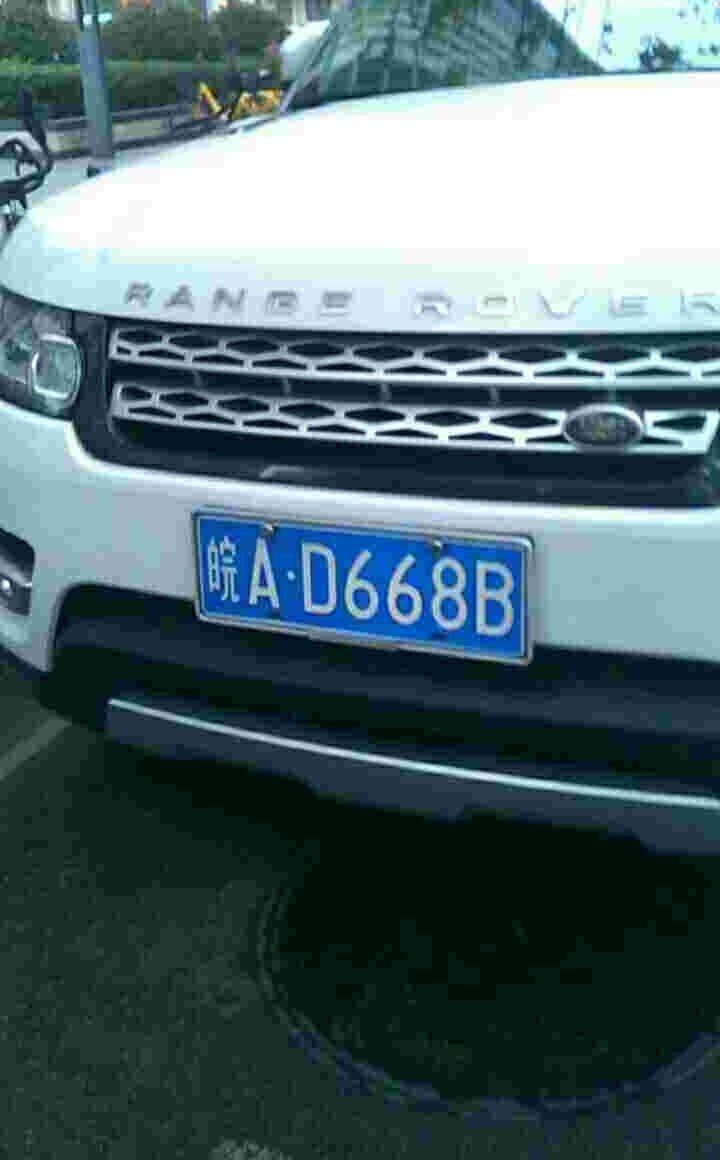license_plate: (181, 505, 524, 661)
